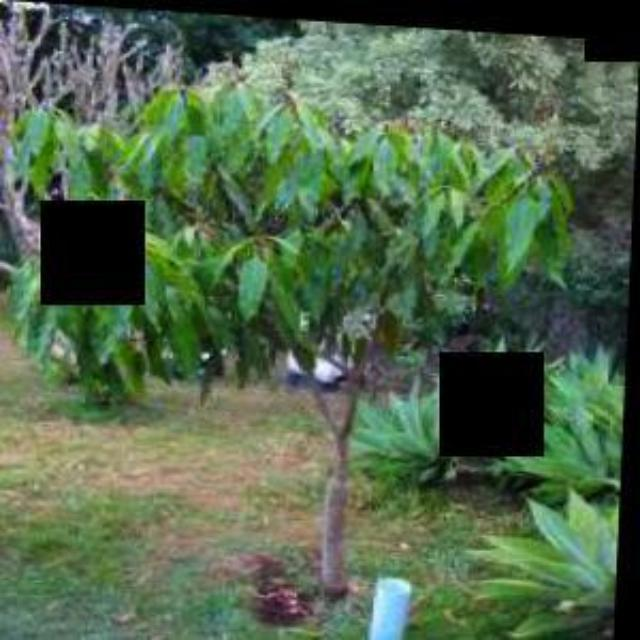tree: (0, 43, 584, 621)
